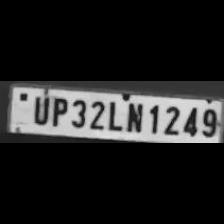1: (144, 102, 160, 134)
2: (160, 102, 180, 136), (87, 97, 105, 130)
3: (66, 96, 86, 128)
4: (180, 104, 198, 136)
9: (198, 104, 218, 138)
L: (104, 98, 124, 132)
N: (124, 100, 144, 132)
P: (48, 96, 68, 127)
U: (28, 93, 50, 125)
